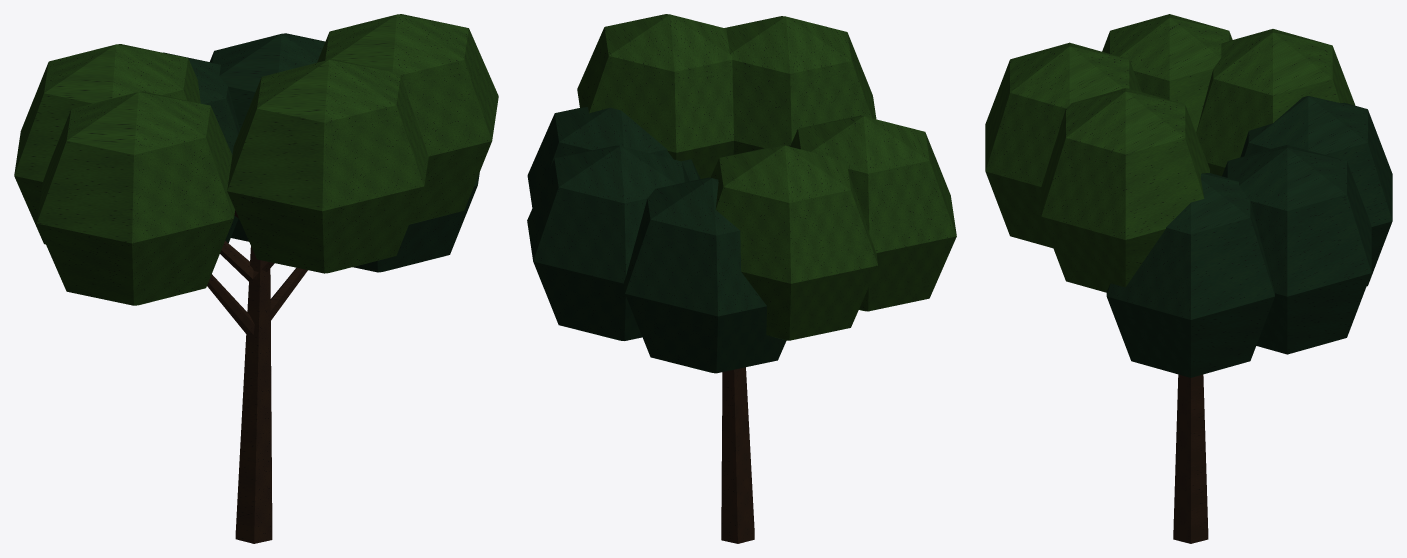
File: PROP-E5EDA0D60414_lod2.glb
3 views of the same model, side by side, from view 1: azimuth 30°, elevation 25°; view 2: azimuth 150°, elevation 25°; view 3: azimuth 270°, elevation 25° (orthographic). The views are drawn at different scales.
Parts seen in each view (by area): view 1: leaf_crown.031, leaf_crown.030, trunk.037, branch.019; view 2: leaf_crown.031, leaf_crown.030, trunk.037; view 3: leaf_crown.031, leaf_crown.030, trunk.037.
Part boxes in pixels (x1,y1,x2,y2): leaf_crown.031: [14, 14, 498, 305]; leaf_crown.030: [163, 33, 479, 272]; trunk.037: [235, 246, 272, 543]; branch.019: [207, 210, 307, 335]; leaf_crown.031: [577, 14, 956, 340]; leaf_crown.030: [527, 107, 786, 373]; trunk.037: [721, 367, 754, 543]; leaf_crown.031: [985, 14, 1355, 292]; leaf_crown.030: [1106, 96, 1392, 377]; trunk.037: [1173, 374, 1208, 543].
Bounding box in the file's own units: 6.03 × 6.52 × 4.87.
3 materials, 3 textured.
